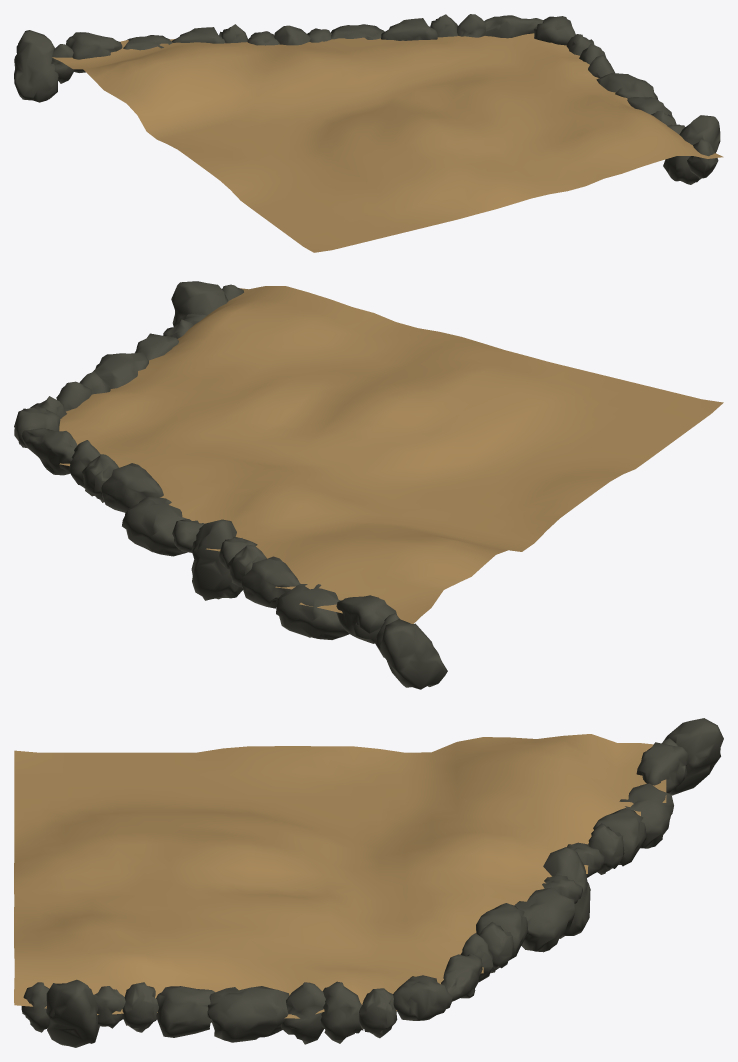
The model's file is medium_ground_01.fbx.
3 views of the same model, one above another, from view 1: azimuth 30°, elevation 25°; view 2: azimuth 150°, elevation 25°; view 3: azimuth 270°, elevation 25° (orthographic). The views are drawn at different scales.
Parts seen in each view (by area): view 1: polySurface_medium_ground_01; view 2: polySurface_medium_ground_01; view 3: polySurface_medium_ground_01.
Part boxes in pixels (<box>): polySurface_medium_ground_01: <box>14,14,723,252</box>; polySurface_medium_ground_01: <box>14,281,723,689</box>; polySurface_medium_ground_01: <box>14,718,723,1047</box>.
Bounding box in the file's own units: 158 × 24.04 × 168.
